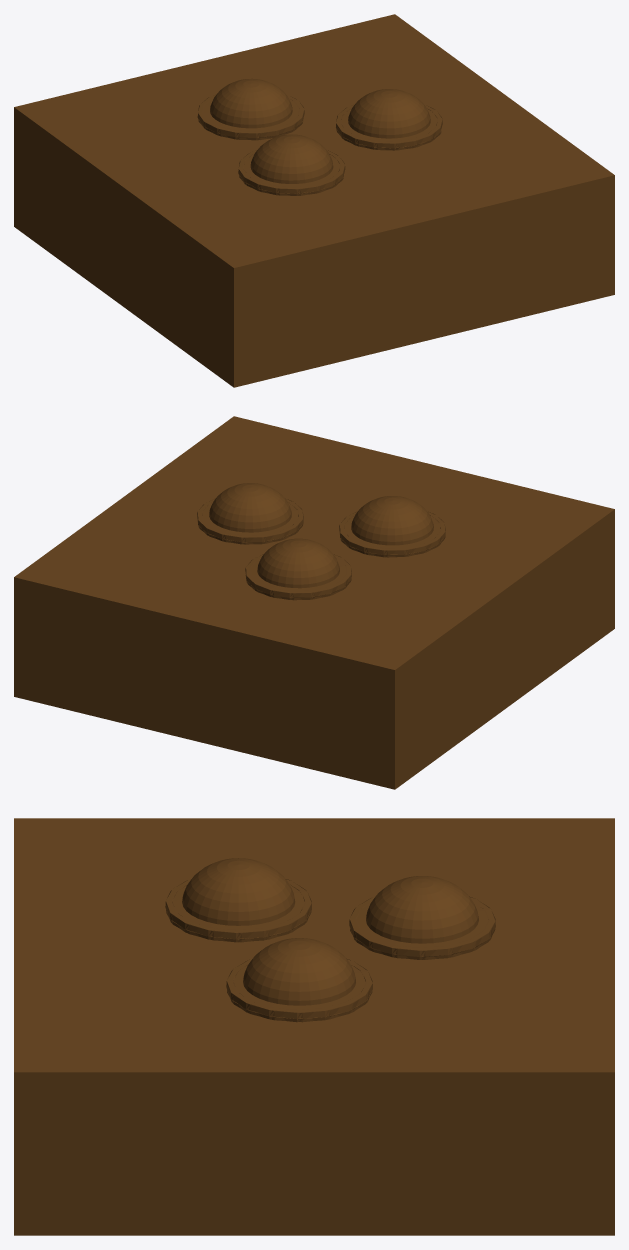
The model's file is br2_cover.fbx.
The picture shows the model from 3 angles, top to bottom: view 1: azimuth 30°, elevation 25°; view 2: azimuth 150°, elevation 25°; view 3: azimuth 270°, elevation 25°; orthographic projection. The views are drawn at different scales.
Parts seen in each view (by area): view 1: Cover.008; view 2: Cover.008; view 3: Cover.008.
Boxes of the visible parts, bbox=[...] form: Cover.008: bbox=[14, 14, 614, 387]; Cover.008: bbox=[14, 416, 614, 789]; Cover.008: bbox=[14, 818, 614, 1235].
Size of the model in its own units: 11.08 by 4.28 by 11.08.
